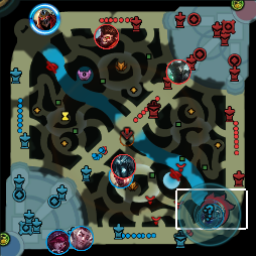karthus: (110, 152, 135, 178)
leesin: (108, 164, 133, 188)
monkeyking: (93, 23, 118, 48)
mordekaiser: (165, 58, 189, 83)
rakan: (69, 225, 92, 249)
xayah: (46, 230, 70, 253)
zed: (32, 5, 56, 31)
